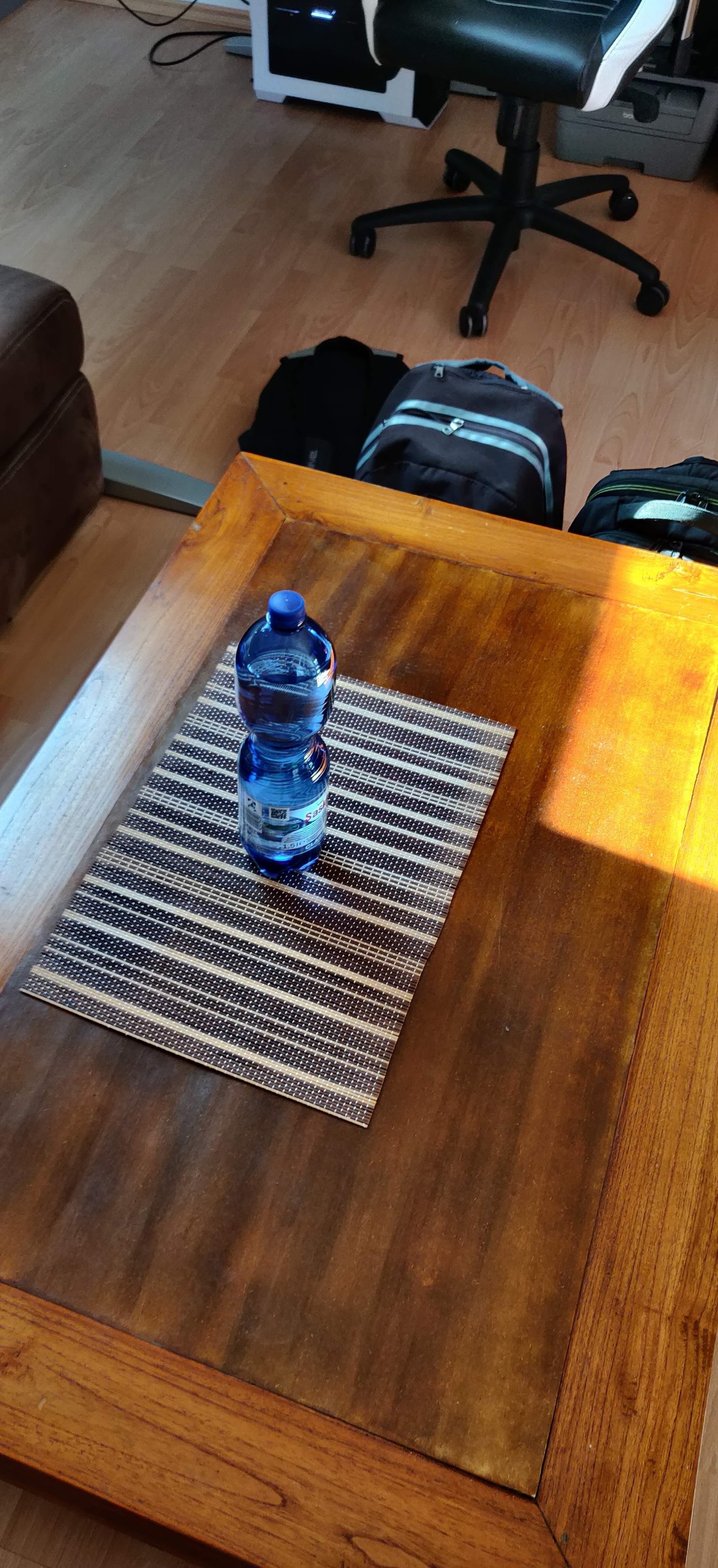bottle-plastic: (229, 584, 341, 884)
